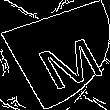M_NW: (14, 23, 96, 87)
